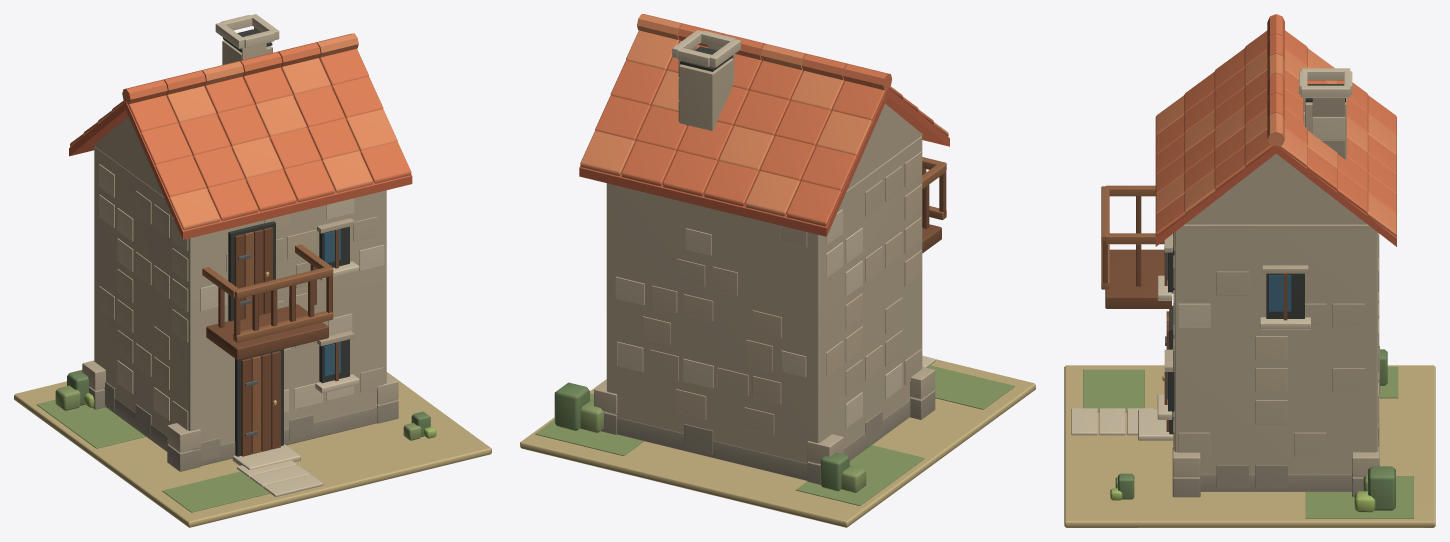
File: house_balcony.glb
The picture shows the model from 3 angles, left to right: view 1: azimuth 30°, elevation 25°; view 2: azimuth 150°, elevation 25°; view 3: azimuth 270°, elevation 25°; orthographic projection. The views are drawn at different scales.
Parts seen in each view (by area): view 1: house_balcony; view 2: house_balcony; view 3: house_balcony.
Part boxes in pixels (x1,y1,x2,y2): house_balcony: [14, 14, 491, 527]; house_balcony: [520, 14, 1035, 527]; house_balcony: [1064, 14, 1435, 527].
Bounding box in the file's own units: 2.4 × 2.77 × 2.4.
